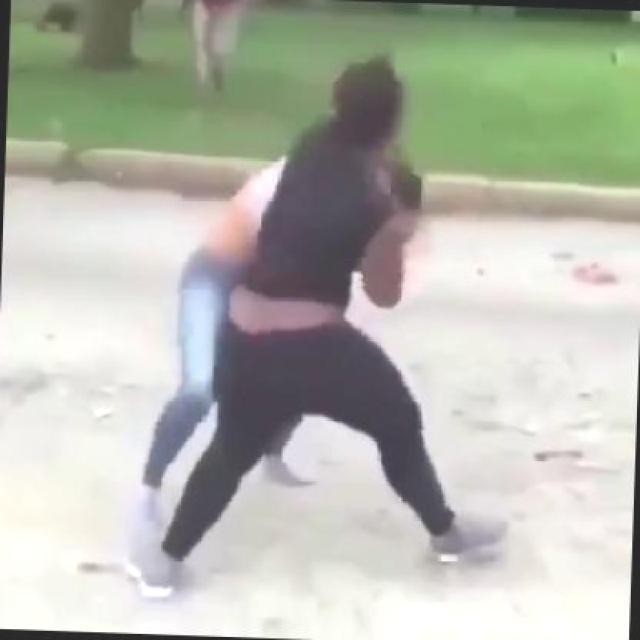fight: (120, 48, 522, 610)
